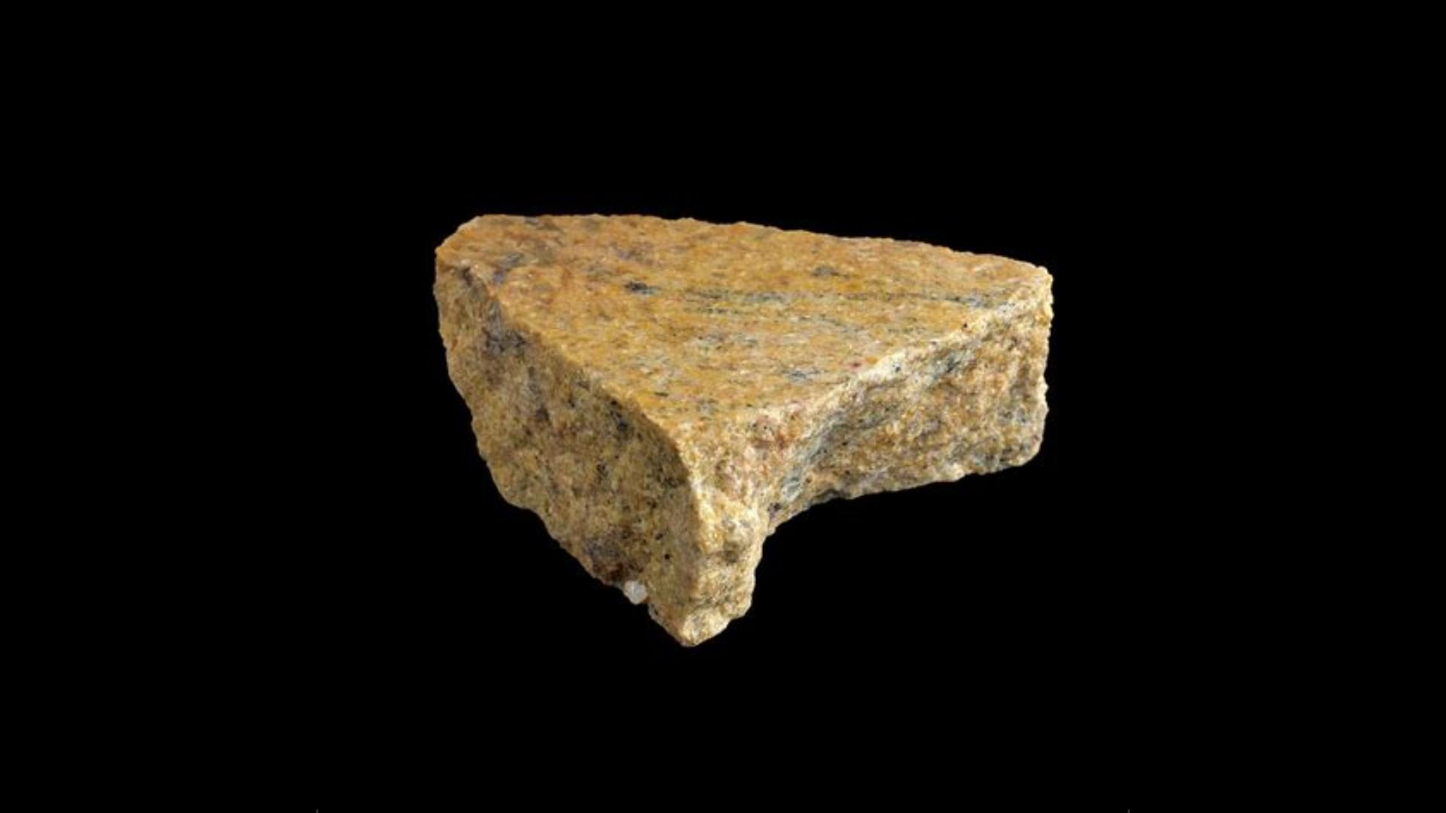rock: (438, 216, 1049, 643)
